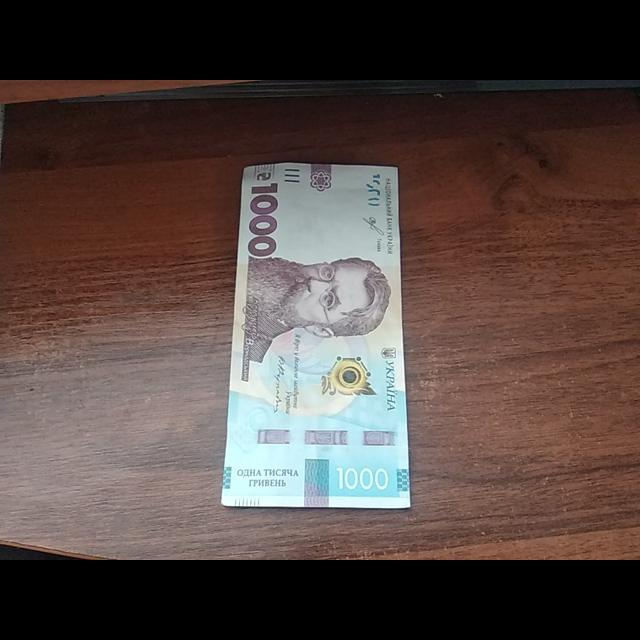1000uah: (226, 165, 411, 506)
